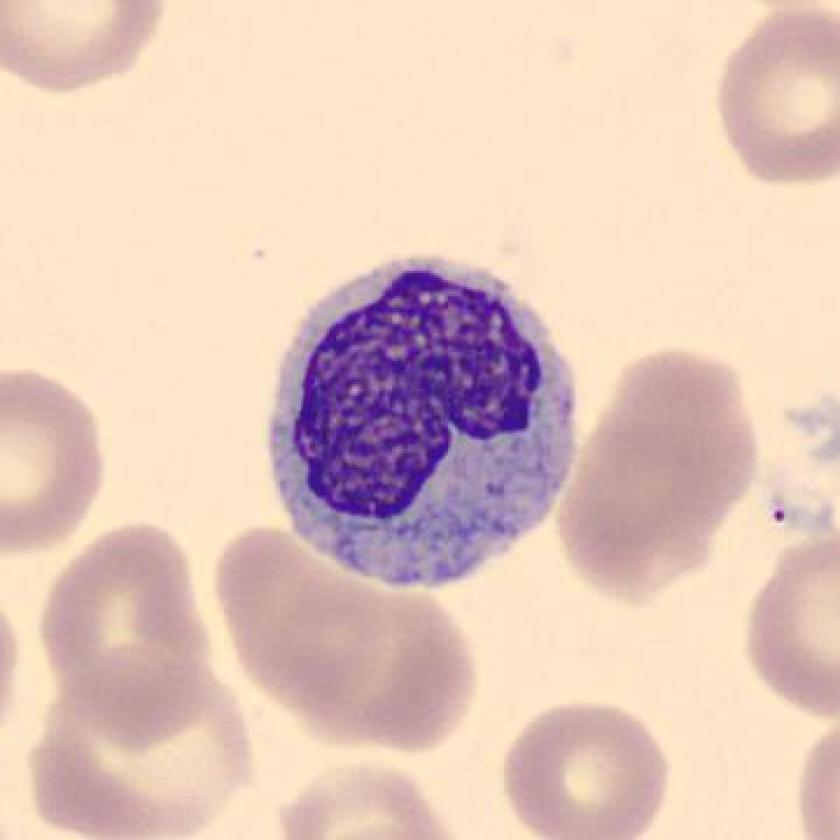monocyte: (249, 235, 592, 612)
